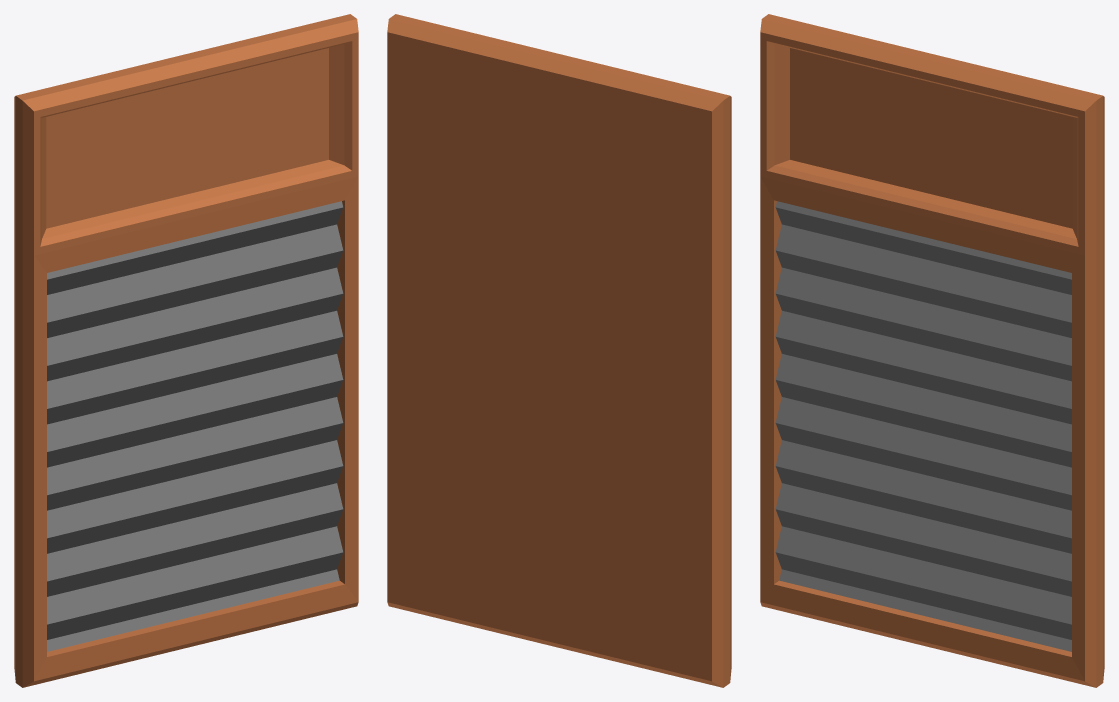
File: handWashingBoard.fbx
3 views of the same model, side by side, from view 1: azimuth 30°, elevation 25°; view 2: azimuth 150°, elevation 25°; view 3: azimuth 330°, elevation 25° (orthographic).
Visible parts, largest first — view 1: Hand Washing Board; view 2: Hand Washing Board; view 3: Hand Washing Board.
Part boxes in pixels (<box>): Hand Washing Board: <box>14,14,358,687</box>; Hand Washing Board: <box>387,14,731,687</box>; Hand Washing Board: <box>760,14,1104,687</box>.
Size of the model in its own units: 37.46 by 3.81 by 62.84.
